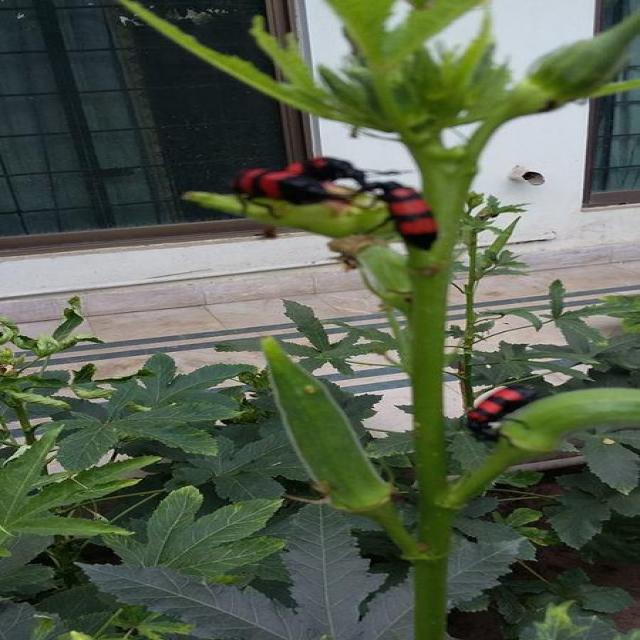BlisterBeetle-Adult-: (352, 176, 465, 257), (460, 374, 563, 452)
